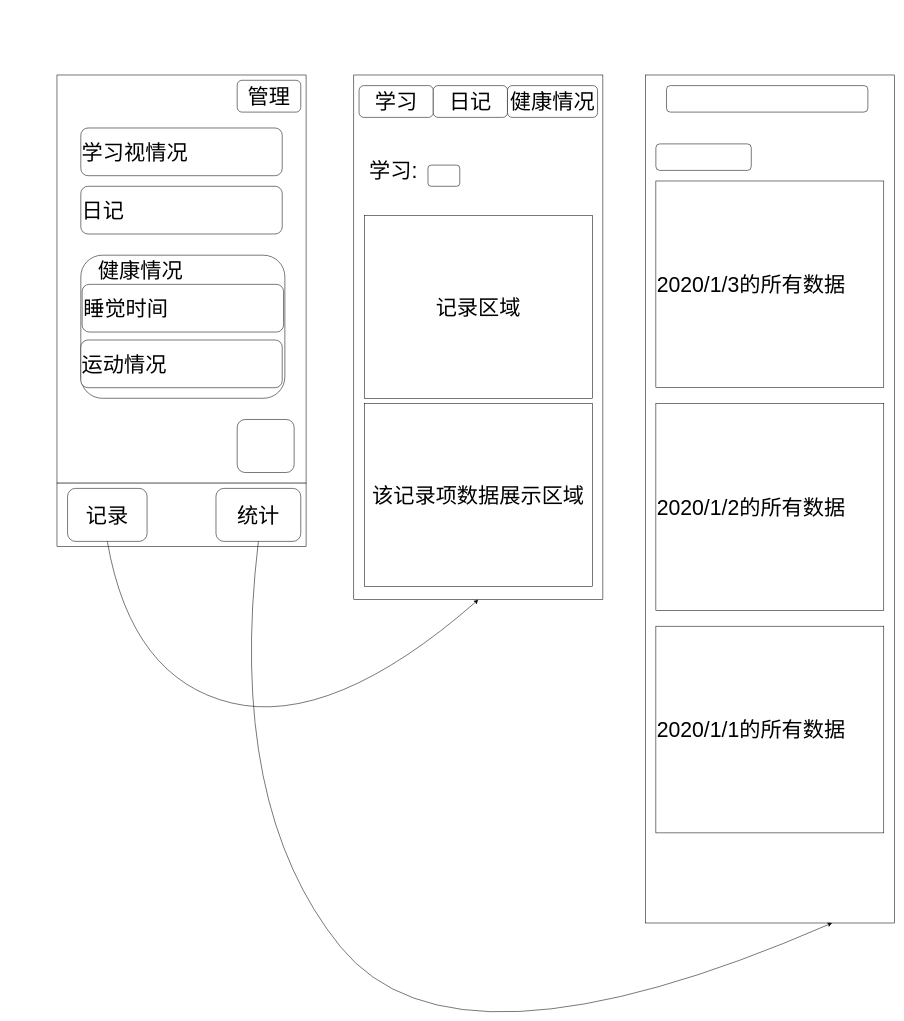
This 904x1021 diagram has some shape labels left out. The centre of each missing label's shape, as x and y in pixels:
"add" belongs at point 265,445.
"搜索框" belongs at point 767,98.
"日期选择" belongs at point 703,156.
"编辑" belongs at point 443,175.
